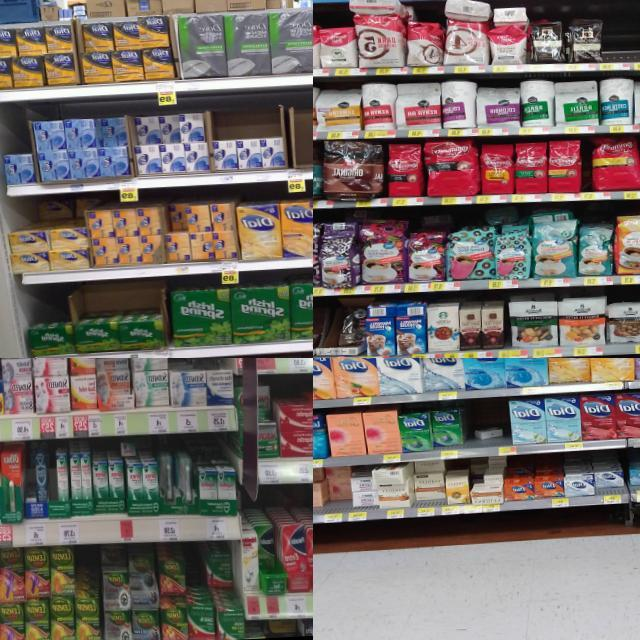void: (602, 26, 640, 70), (295, 111, 313, 180), (492, 397, 510, 457)
